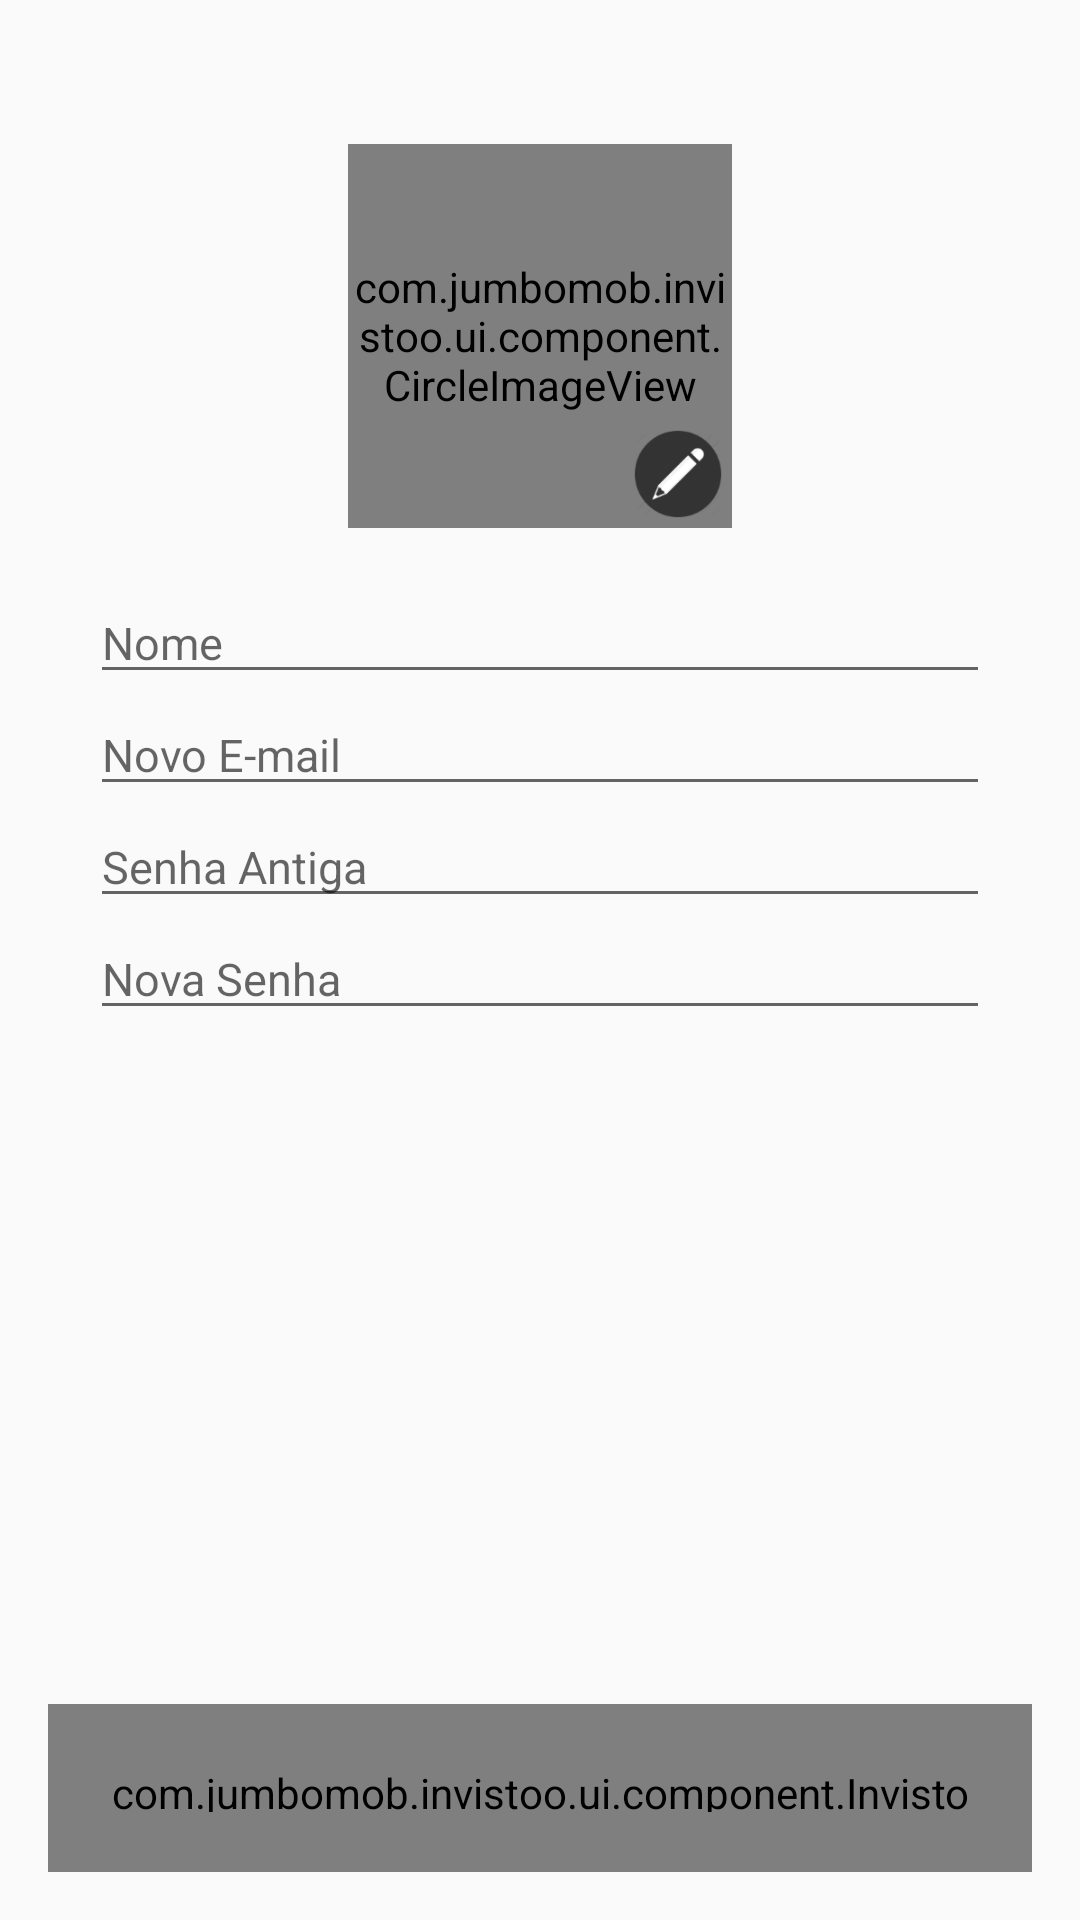

Where to tap for icons on this 1080 x 1920 app screen, as (x,y):
edit pencil: (678,474)
